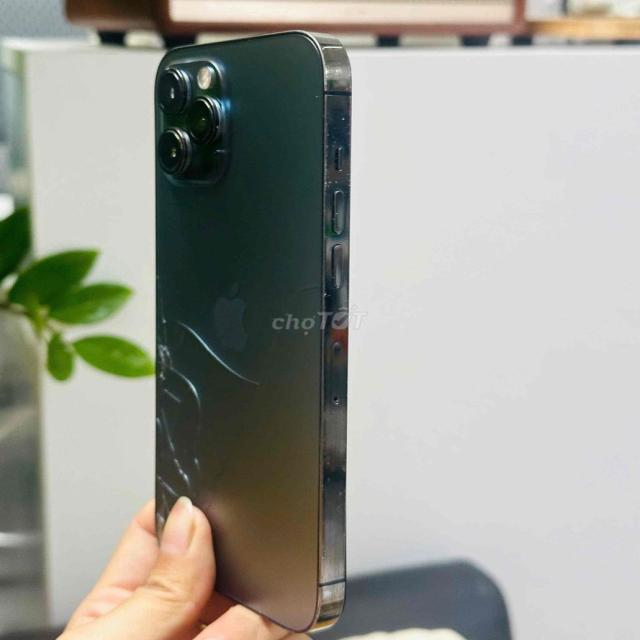gen_12_13: (143, 23, 380, 640)
